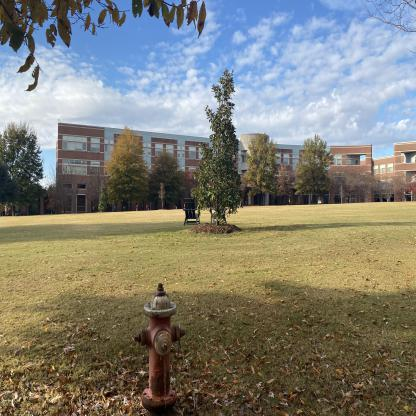EB-1: (52, 109, 388, 213)
